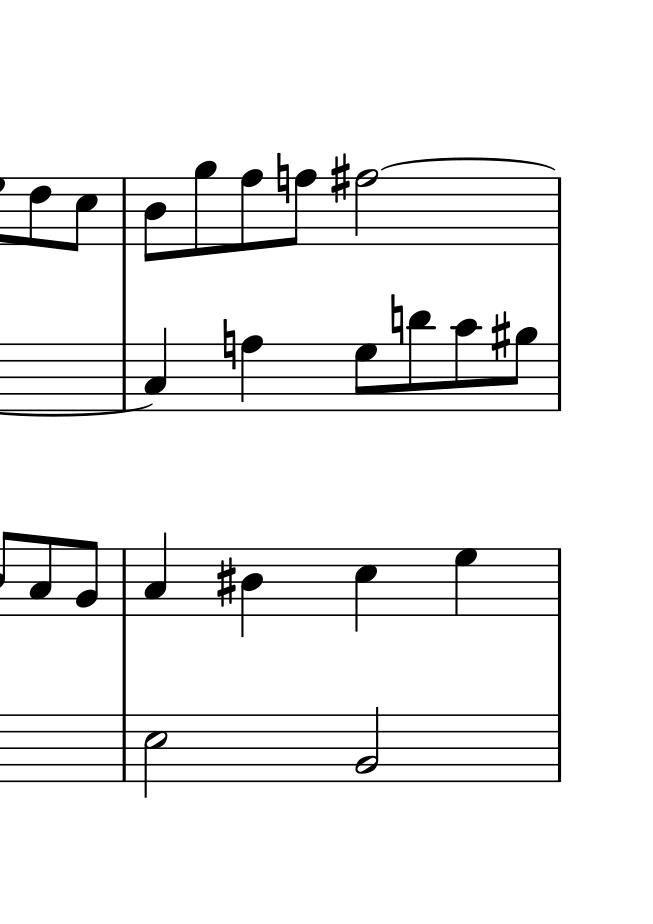2_2: (354, 705, 381, 783)
2_5: (142, 713, 168, 798)
2_6: (353, 167, 378, 247)
4_3: (143, 532, 168, 616), (143, 328, 168, 411)
4_4: (239, 551, 264, 637)
4_5: (352, 549, 380, 633)
4_6: (239, 333, 263, 414)
4_7: (453, 547, 479, 617)
8_10: (454, 317, 479, 412)
8_11: (406, 304, 434, 411)
8_2: (73, 539, 100, 617)
8_3: (27, 534, 53, 618)
8_4: (142, 177, 168, 264)
8_5: (68, 176, 98, 254)
8_6: (28, 175, 52, 250)
8_7: (353, 341, 378, 411)
8_8: (285, 169, 317, 248), (239, 167, 264, 255)
8_9: (507, 326, 538, 412), (193, 159, 216, 259)
Natural: (221, 317, 237, 372), (276, 152, 291, 207), (389, 293, 404, 347)
Sharp: (215, 556, 237, 610), (490, 310, 511, 362), (330, 153, 350, 205)
Single_barline: (116, 714, 132, 782), (116, 549, 132, 616), (551, 345, 567, 411), (551, 549, 567, 615), (116, 344, 132, 409), (551, 716, 567, 781), (552, 178, 567, 247), (117, 178, 132, 245)
Slur: (379, 157, 556, 172)
